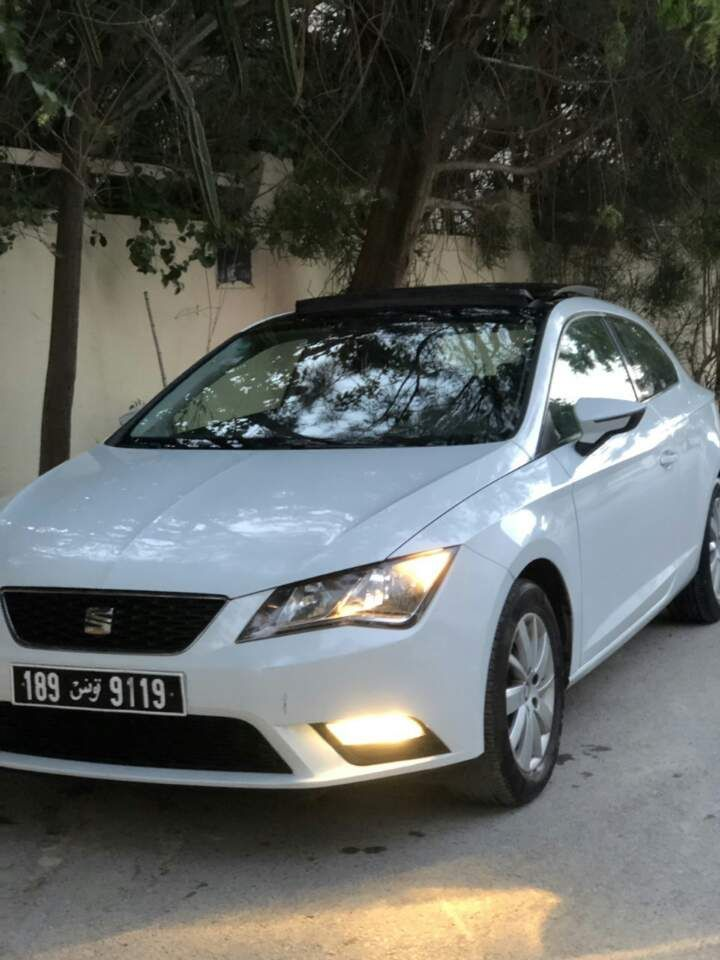LP: (10, 664, 189, 716)
